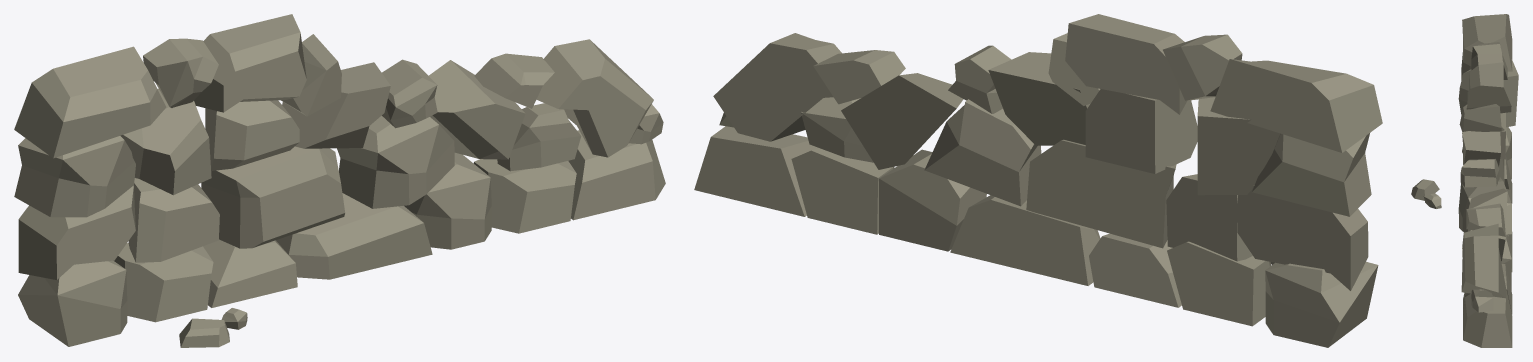
The model's file is wall01.fbx.
3 renders of one model, left to right at view 1: azimuth 30°, elevation 25°; view 2: azimuth 150°, elevation 25°; view 3: azimuth 270°, elevation 25°, orthographic. The views are drawn at different scales.
Parts seen in each view (by area): view 1: wall01, wall01_small; view 2: wall01; view 3: wall01, wall01_small.
Boxes of the visible parts, box(x1,y1,x2,y2) form: wall01: box(14, 14, 665, 346); wall01_small: box(179, 308, 247, 347); wall01: box(694, 14, 1382, 347); wall01: box(1458, 14, 1518, 347); wall01_small: box(1411, 179, 1441, 208).
Size of the model in its own units: 9.44 by 3.65 by 2.23.
